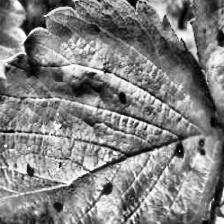Leaf Spot: (0, 0, 224, 224), (133, 137, 224, 224), (188, 0, 224, 162), (0, 0, 27, 144)
